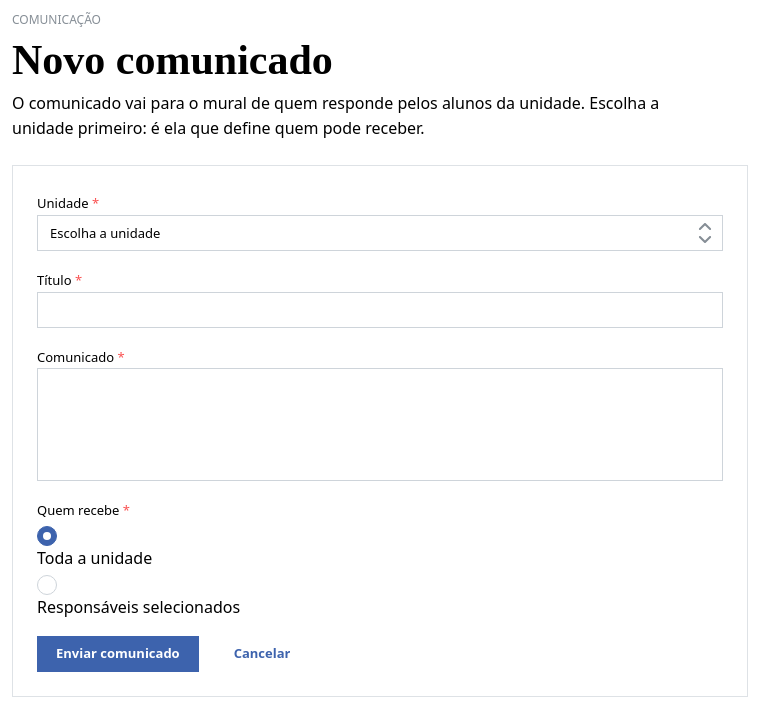
Scenario: AnnouncementForm › and coming back to the selected audience shows nothing ticked, not the selection somebody believed they had discarded
Step 1. Select "Escola Central" in the dropdown labelled "Unidade" → (380, 233), box [37,215,723,251]
Step 2. Type "Reunião de pais" into the field labelled "Título" → (380, 310), box [37,292,723,328]
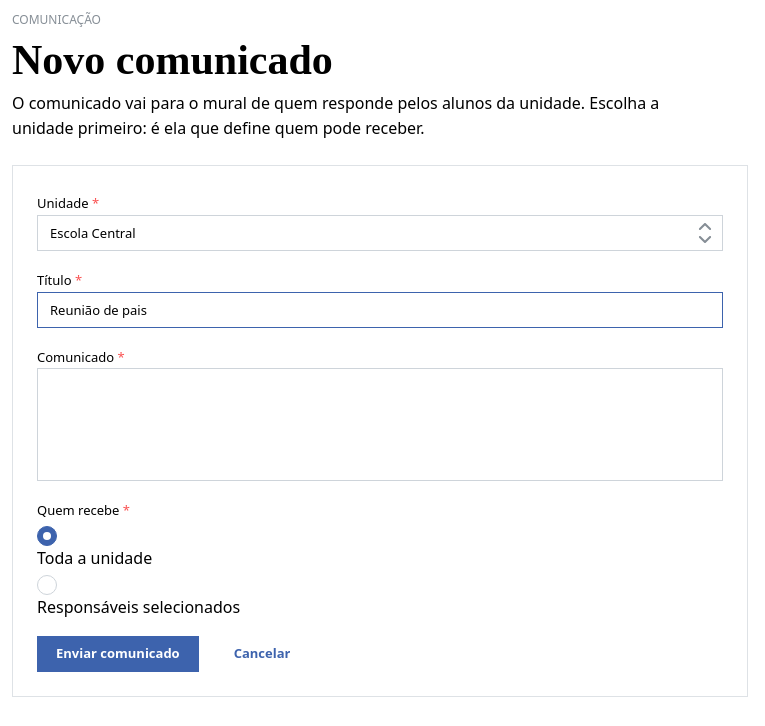
Step 3. Type "Na quinta-feira." into the text box labelled "Comunicado" → (380, 425), box [37,368,723,481]
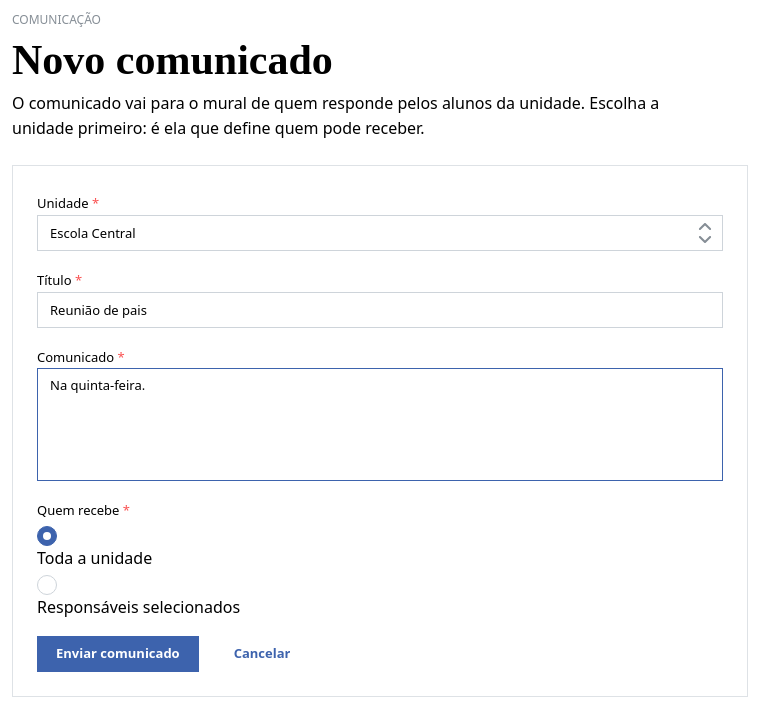
Step 4. Click the radio button labelled "Responsáveis selecionados" → (47, 585), box [37,575,57,595]
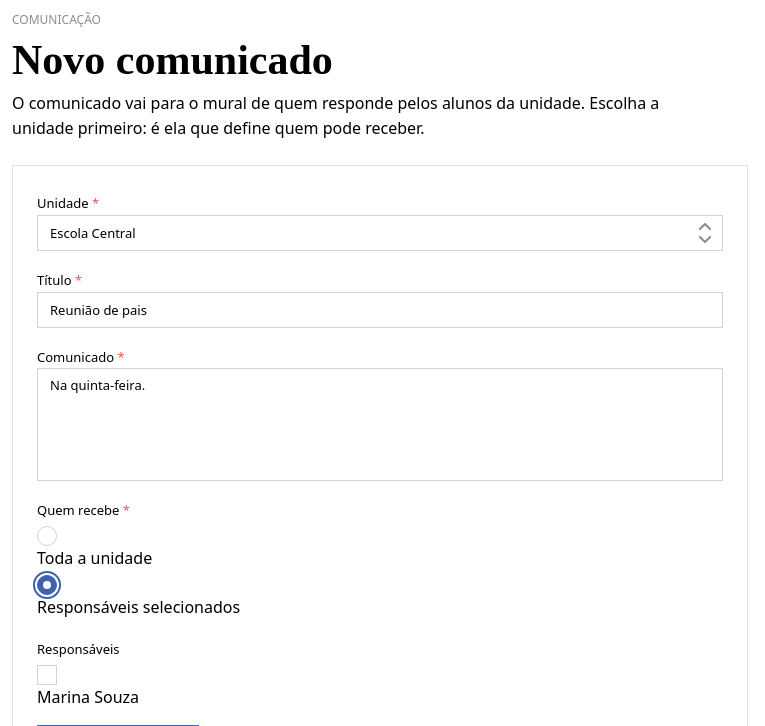
Step 5. Click the checkbox labelled "Marina Souza" → (47, 675), box [37,665,57,685]
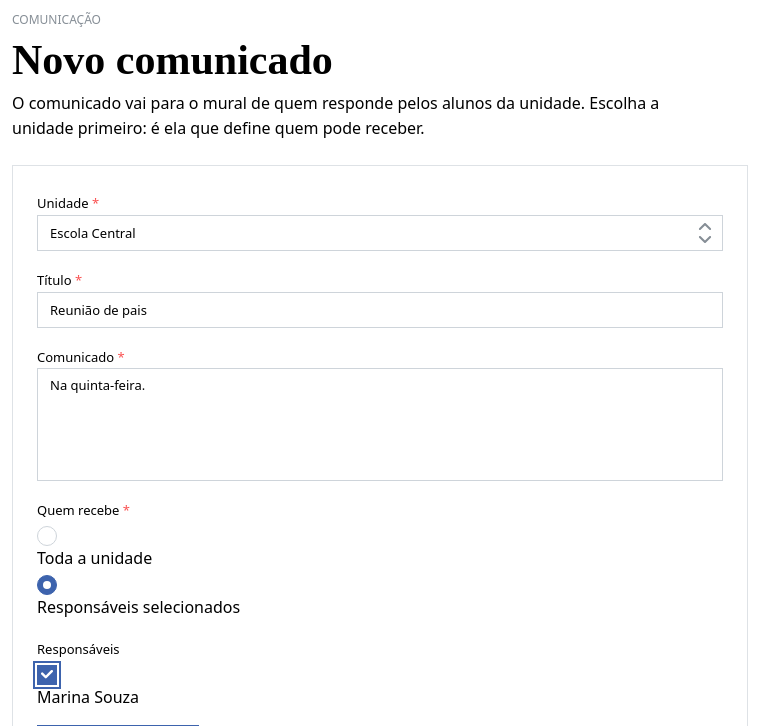
Step 6. Click the radio button labelled "Toda a unidade" → (47, 536), box [37,526,57,546]
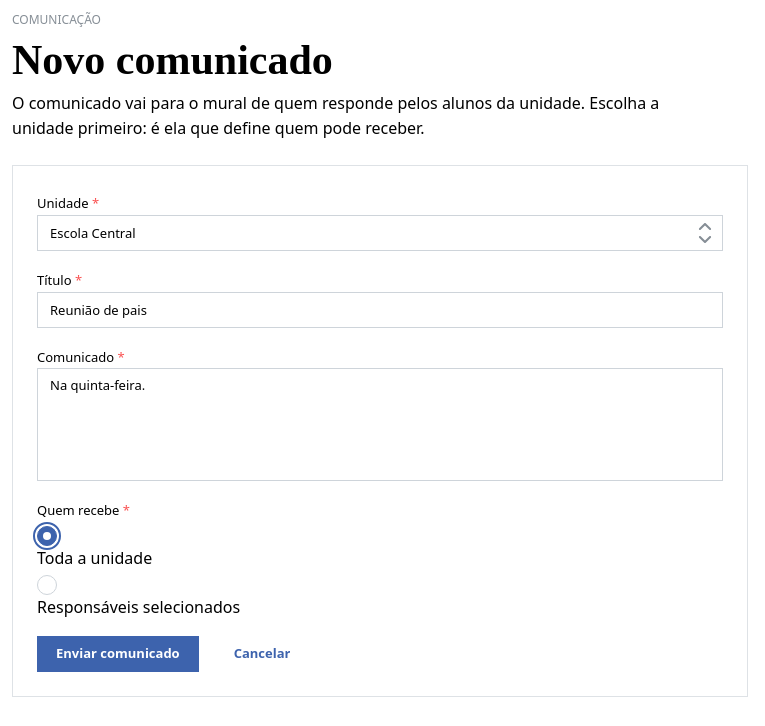
Step 7. Click the radio button labelled "Responsáveis selecionados" → (47, 585), box [37,575,57,595]
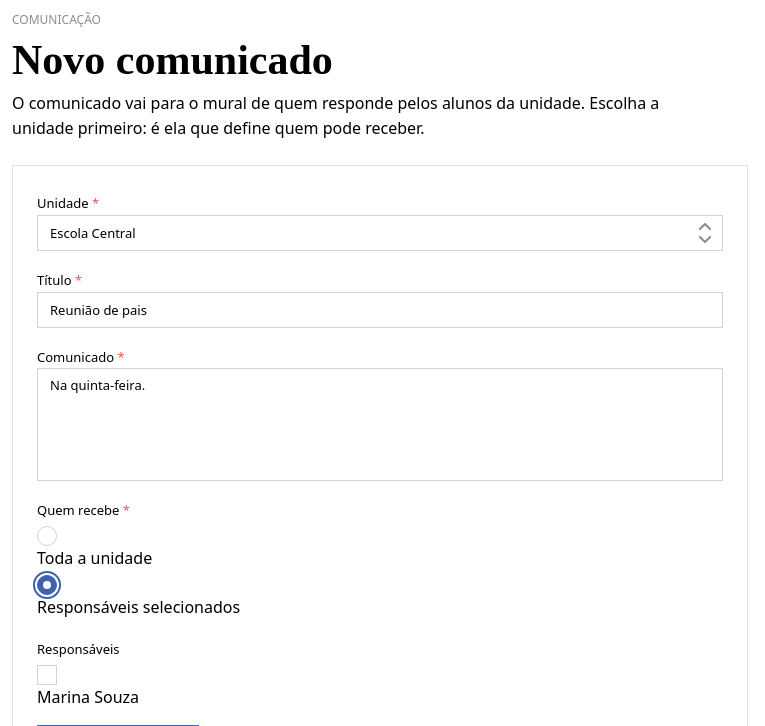
Now the checkbox labelled "Marina Souza" is not checked, box [37,665,57,685]
